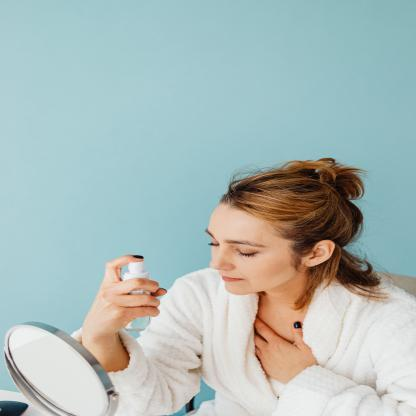Eye: (234, 247, 259, 258), (211, 241, 219, 247)
Mouth: (219, 273, 246, 282)
Nose: (209, 249, 235, 270)
